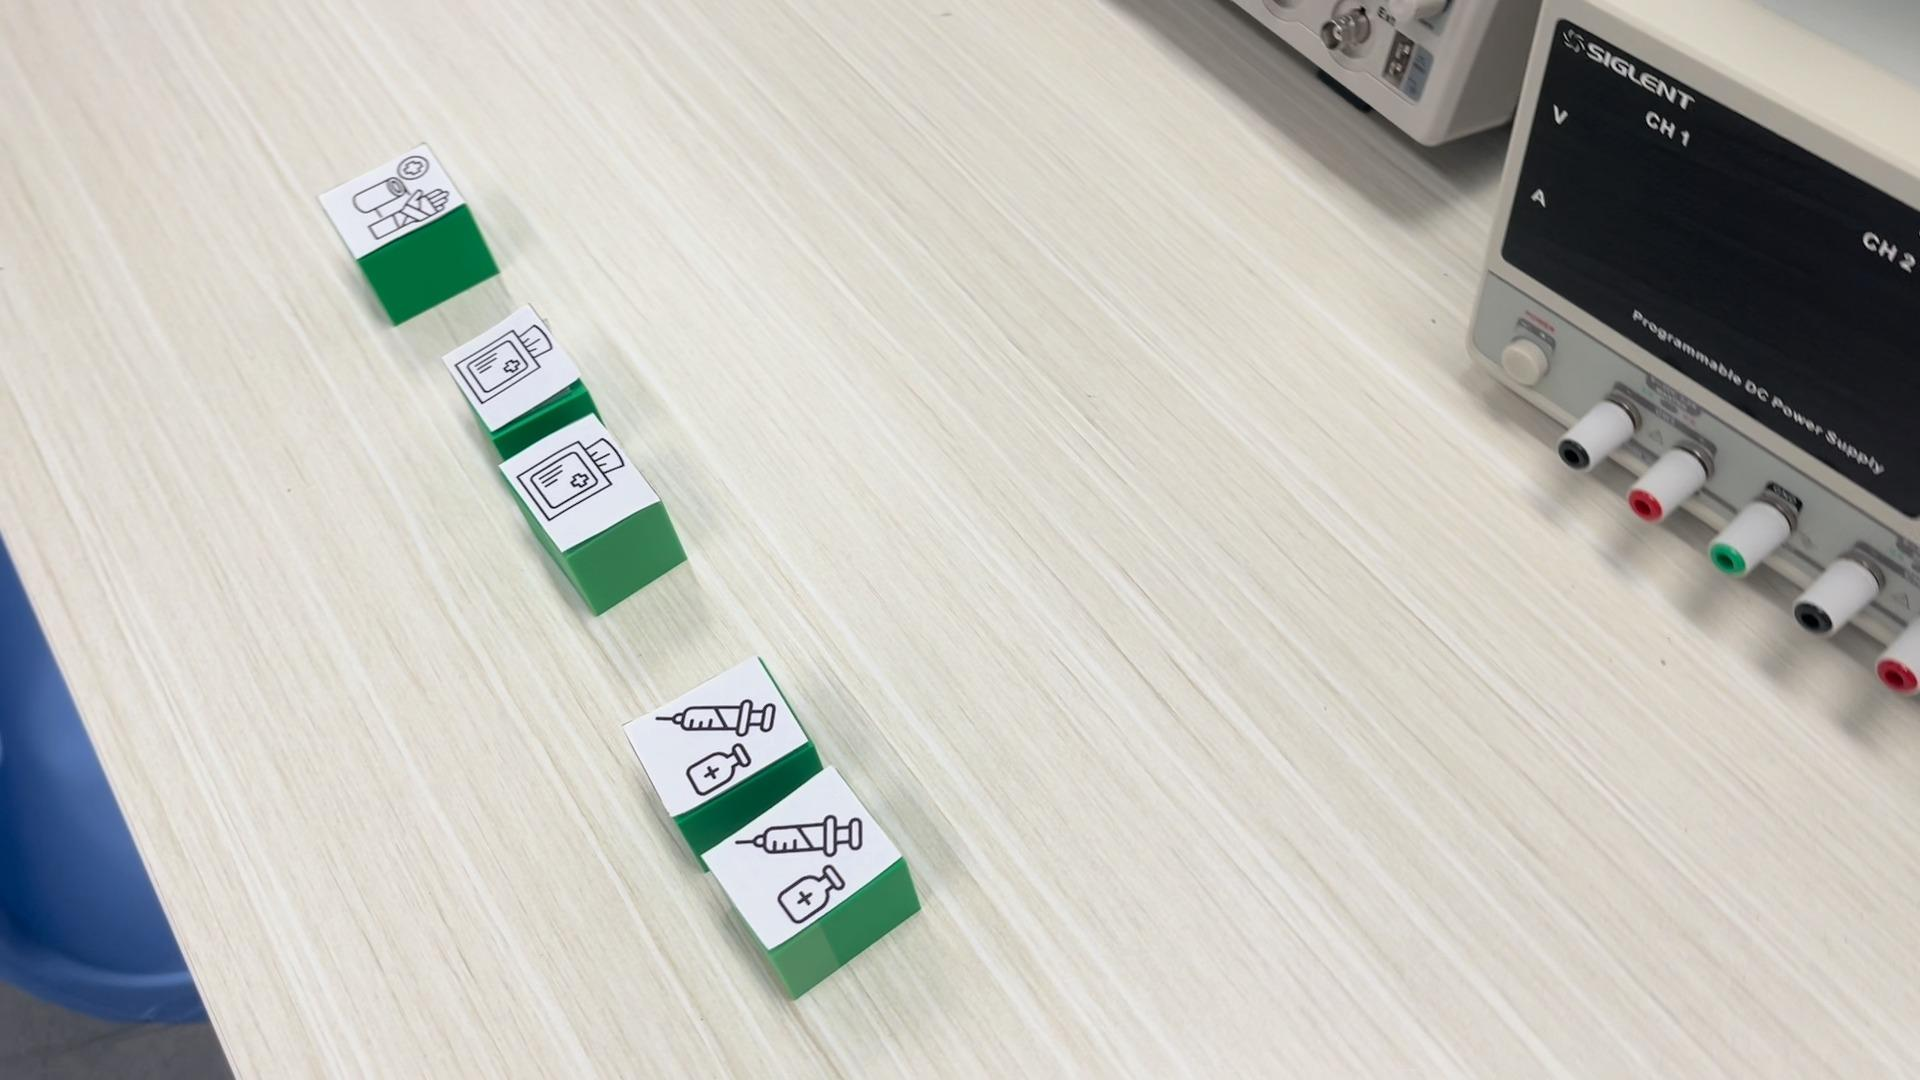Bandages: (315, 142, 498, 324)
Gauze: (480, 407, 688, 616), (440, 303, 587, 429)
antiseptic cream: (702, 762, 924, 1000), (621, 653, 812, 820)
